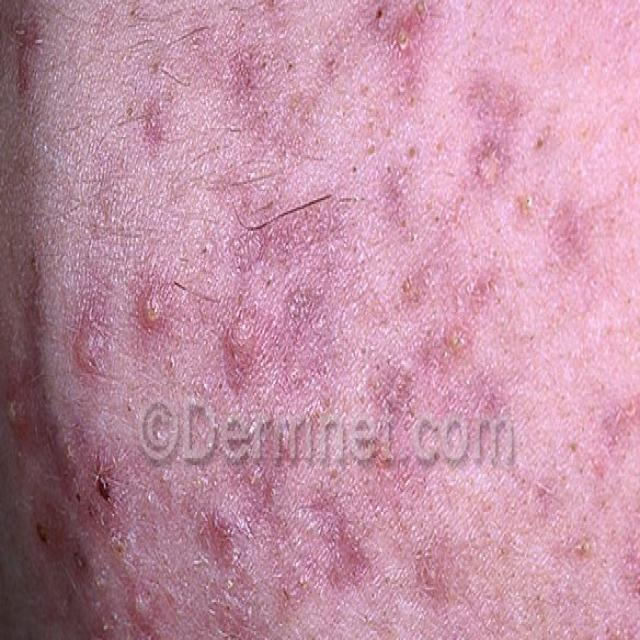Acne: (112, 5, 544, 232), (0, 245, 227, 640), (233, 282, 486, 595), (533, 443, 640, 639), (545, 189, 615, 286)
